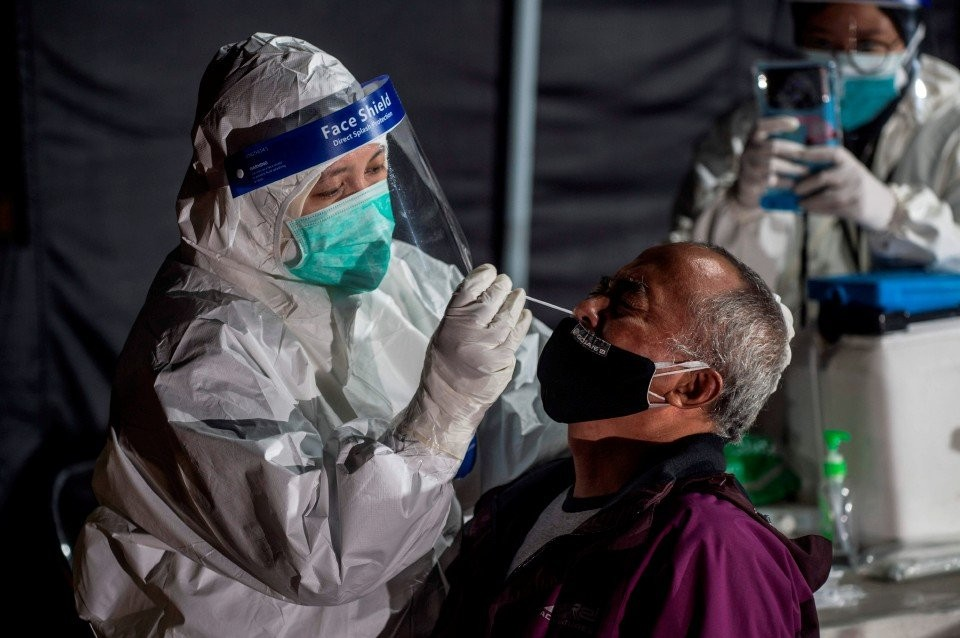Coverall: (70, 30, 541, 638)
Face_Shield: (223, 74, 484, 317)
Gloves: (381, 259, 531, 477), (796, 138, 900, 237), (727, 110, 813, 207)
mask_weared_incorrect: (531, 272, 710, 419)
with_mask: (300, 157, 399, 294), (790, 21, 909, 133)
